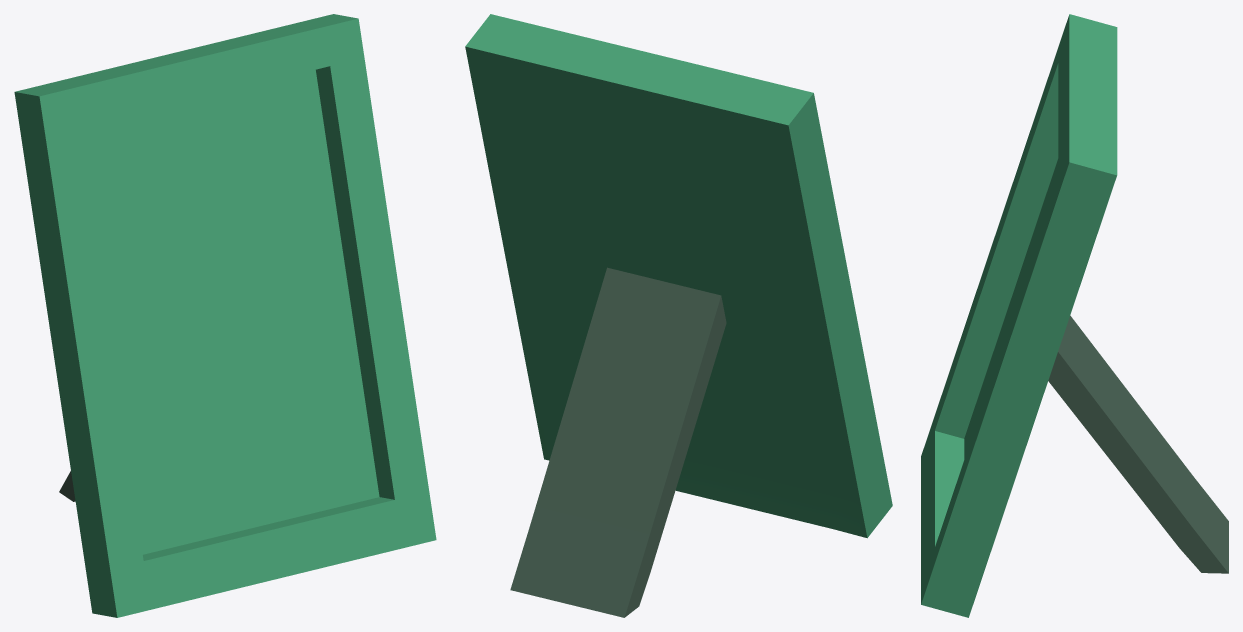
The model's file is portrait_low.fbx.
The picture shows the model from 3 angles, left to right: view 1: azimuth 30°, elevation 25°; view 2: azimuth 150°, elevation 25°; view 3: azimuth 270°, elevation 25°; orthographic projection. The views are drawn at different scales.
Parts seen in each view (by area): view 1: portrait_low; view 2: portrait_low, portrait_stand_low; view 3: portrait_low, portrait_stand_low.
Part boxes in pixels (x1,y1,x2,y2): portrait_low: [14, 14, 436, 617]; portrait_low: [465, 14, 892, 538]; portrait_stand_low: [510, 267, 726, 617]; portrait_low: [921, 14, 1117, 617]; portrait_stand_low: [1048, 315, 1228, 573].
Size of the model in its own units: 5.06 by 7.31 by 4.44.
